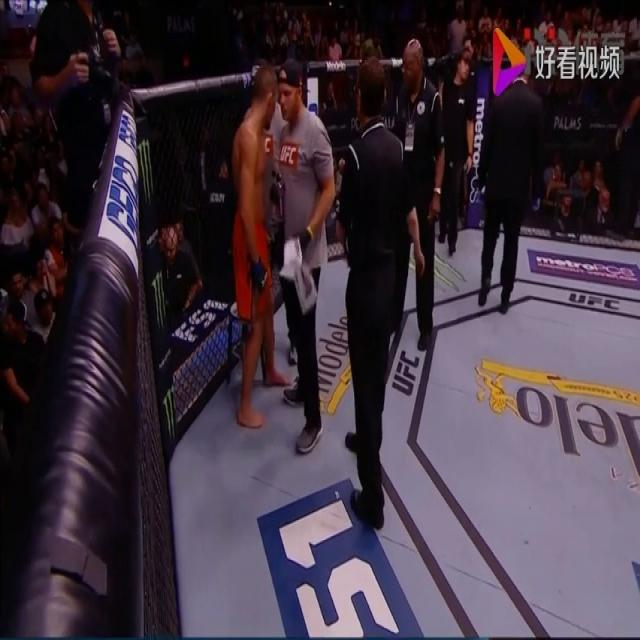fight: (216, 55, 340, 462)
non-fight: (337, 54, 424, 532), (473, 71, 548, 313)
